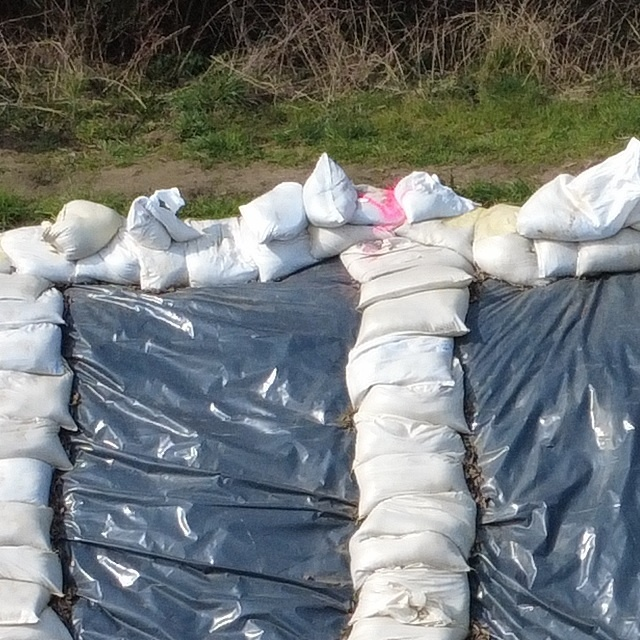sandbag: (517, 139, 640, 243), (356, 358, 467, 433), (346, 334, 454, 408), (354, 492, 476, 557), (355, 454, 468, 519), (353, 567, 469, 629), (340, 233, 475, 284), (356, 288, 470, 347), (349, 533, 468, 589), (354, 413, 465, 468), (0, 357, 79, 433), (472, 204, 540, 286), (358, 266, 474, 311), (185, 219, 258, 287), (42, 200, 123, 260), (240, 222, 317, 282), (395, 209, 481, 260), (240, 182, 309, 244), (393, 172, 475, 224), (67, 226, 139, 285), (303, 153, 358, 229), (128, 235, 188, 293), (0, 323, 64, 376), (576, 229, 640, 277), (309, 225, 390, 261), (147, 189, 200, 243), (349, 618, 468, 640), (0, 288, 64, 328), (126, 197, 173, 250), (0, 607, 72, 640), (351, 185, 405, 228), (533, 240, 578, 280)
